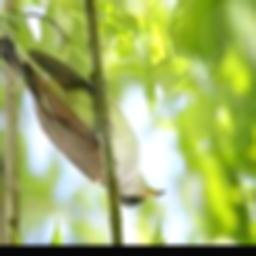Cuckoo: (0, 8, 167, 208)
